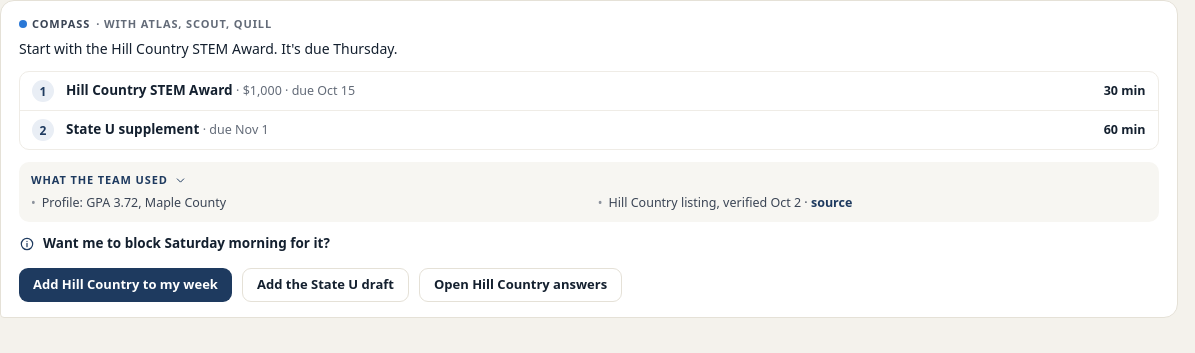
ReplyCard › shows the API message when applying fails
Click the button "Add Hill Country to my week" at (125, 285), box [19,268,232,302]
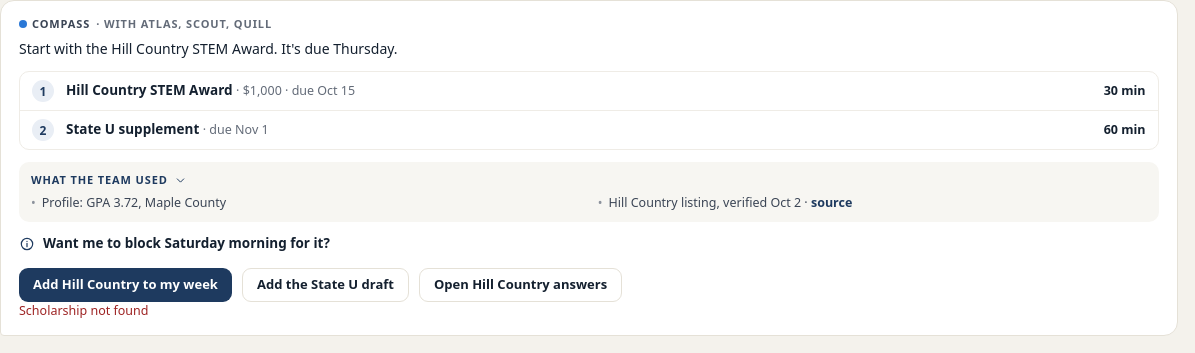
expect the text "Scholarship not found" is shown: met, box [19,302,148,319]
